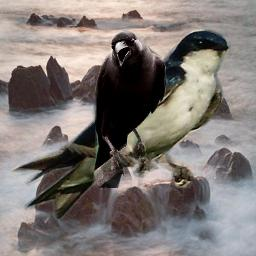Crow: (92, 30, 166, 188)
Swallow: (10, 29, 231, 220)
